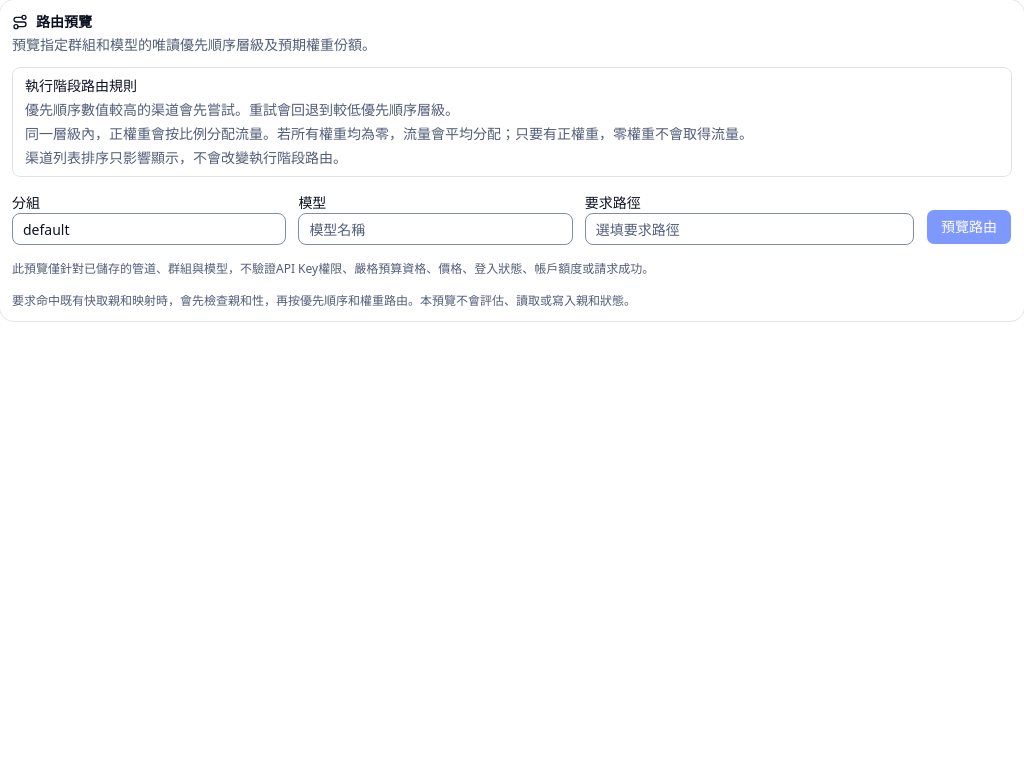
it: account scheduling preview › zh-TW renders translated scheduling, exclusions, expiry, and affinity without fallback or lost placeholders
Type "public-model" into the field named "路由預覽模型".
click(436, 229); type("public-model")  # box [298, 213, 573, 245]
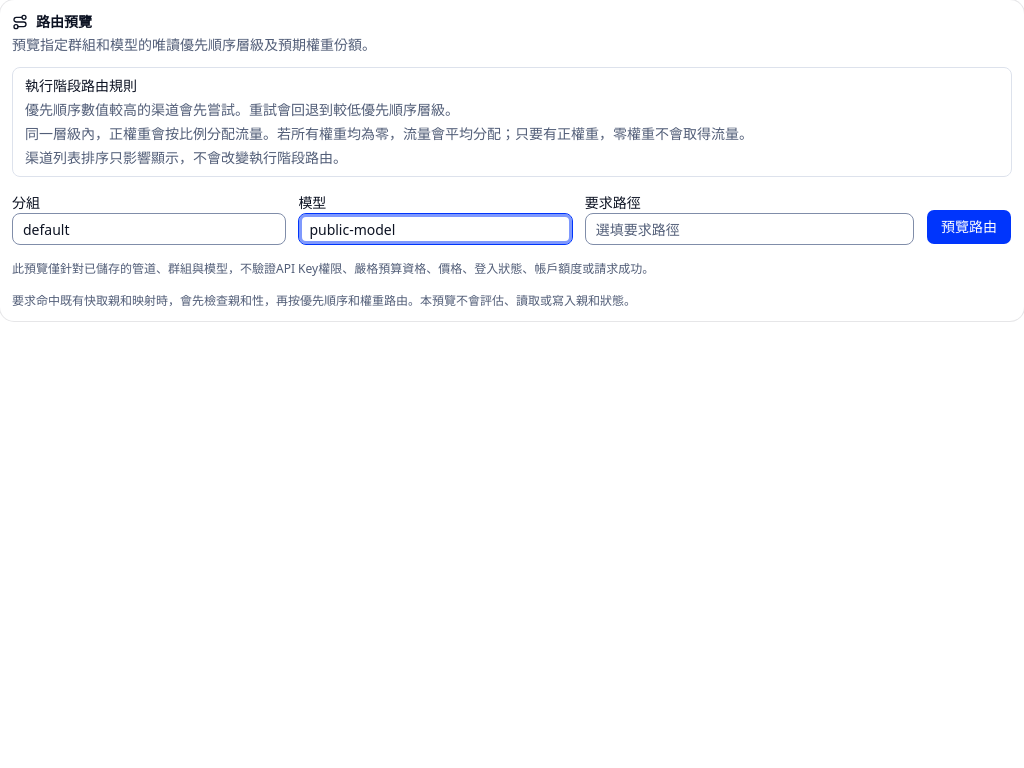
Click the button "預覽路由".
click(969, 227)  # box [926, 209, 1012, 245]
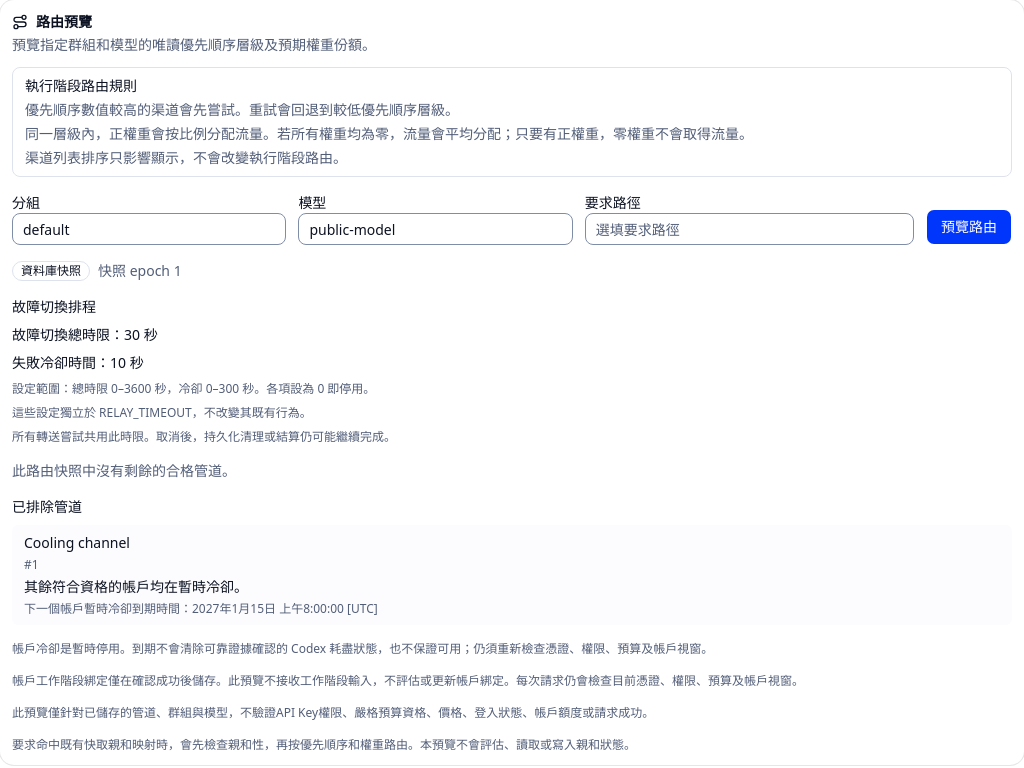
Result: the text "其餘符合資格的帳戶均在暫時冷卻。" is shown at [24, 577, 248, 596]
Result: the text "帳戶工作階段綁定僅在確認成功後儲存。此預覽不接收工作階段輸入，不評估或更新帳戶綁定。每次請求仍會檢查目前憑證、權限、預算及帳戶視窗。" is shown at [12, 672, 804, 689]
